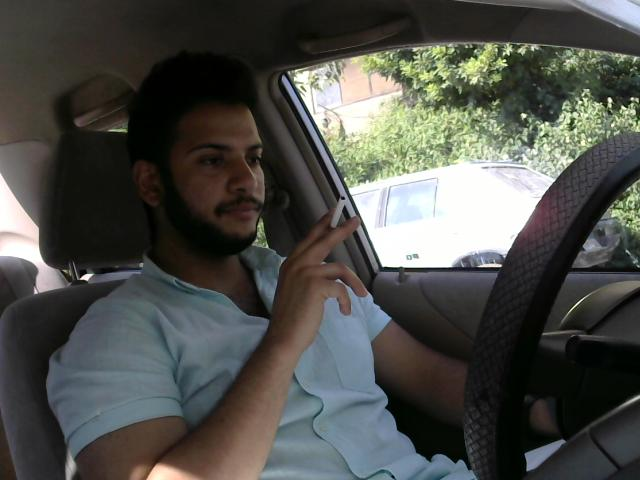Smoking: (329, 189, 350, 244)
